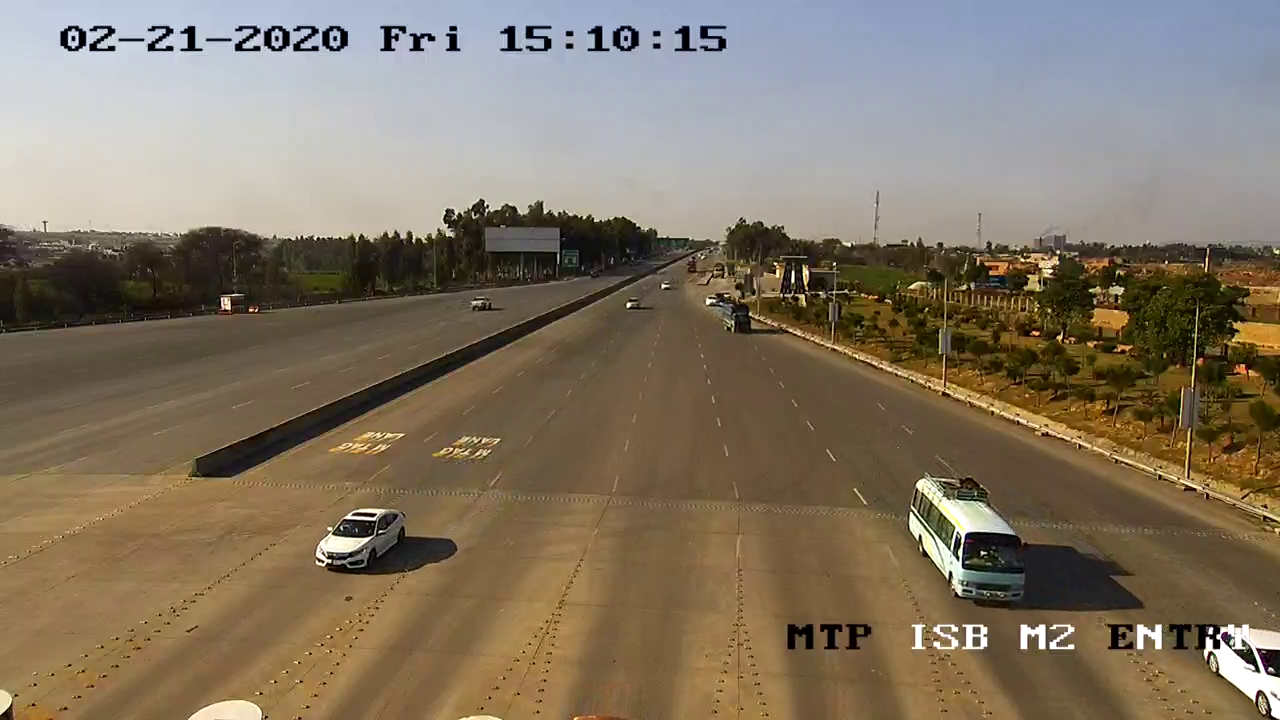f1: (309, 500, 416, 579)
f3: (901, 466, 1041, 614)
